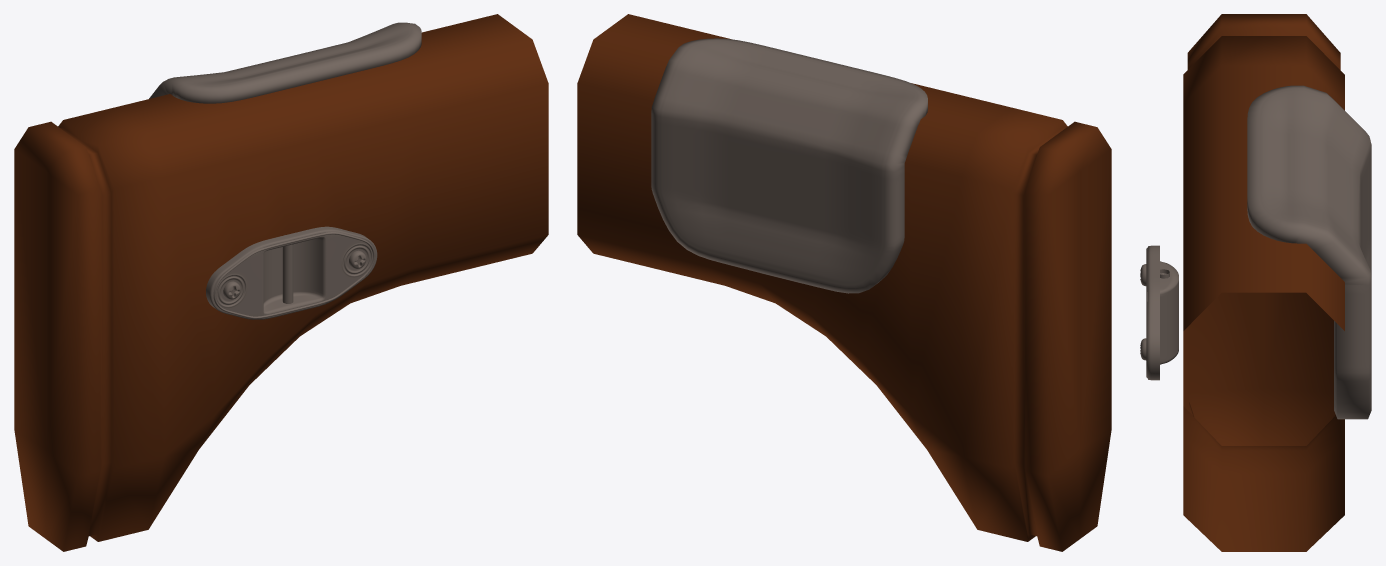
The model's file is stock_05.fbx.
3 views of the same model, side by side, from view 1: azimuth 30°, elevation 25°; view 2: azimuth 150°, elevation 25°; view 3: azimuth 270°, elevation 25° (orthographic). The views are drawn at different scales.
Parts seen in each view (by area): view 1: Plane.004, Cylinder.029, Plane.073, Cylinder.028; view 2: Plane.004, Plane.073; view 3: Plane.004, Plane.073, Cylinder.029.
Boxes of the visible parts, x1,y1,x2,y2 form: Plane.004: (14,14,548,551); Cylinder.029: (206,226,377,319); Plane.073: (149,22,421,103); Cylinder.028: (282,235,293,303); Plane.004: (577,14,1111,551); Plane.073: (651,38,927,293); Plane.004: (1183,14,1344,551); Plane.073: (1247,85,1371,419); Cylinder.029: (1146,245,1178,380).
Size of the model in its own units: 51.83 by 43.41 by 18.26.
